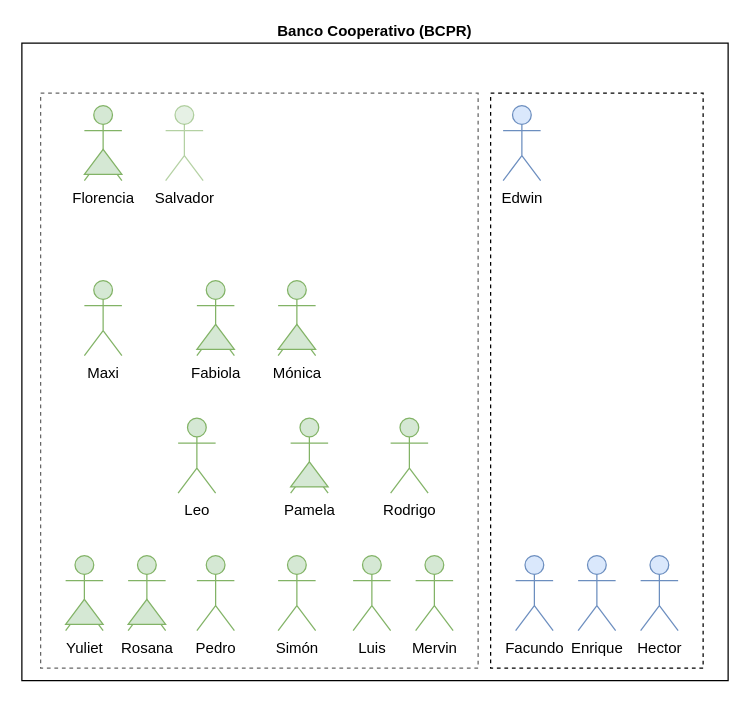
Some shapes in this 750 by 703 pixel diagram are drawn without their labels. Each missing label, with the box of its shape:
Evertec: (489, 92, 703, 668)
Overactive: (39, 92, 478, 668)
